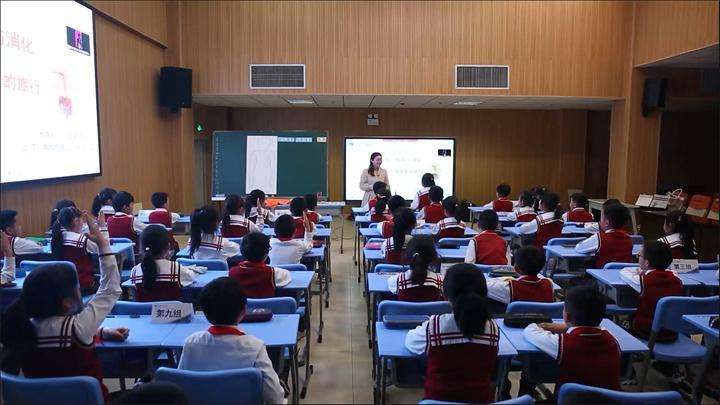hands-up: (28, 212, 114, 367), (220, 182, 268, 234), (273, 215, 319, 264)
listen: (412, 262, 508, 382), (179, 281, 275, 367), (530, 285, 623, 358), (485, 245, 555, 302), (624, 234, 686, 294), (229, 234, 297, 288), (384, 237, 442, 298), (573, 203, 633, 260), (140, 192, 180, 227), (114, 189, 137, 238), (489, 177, 519, 210)
stand: (417, 167, 437, 208)
